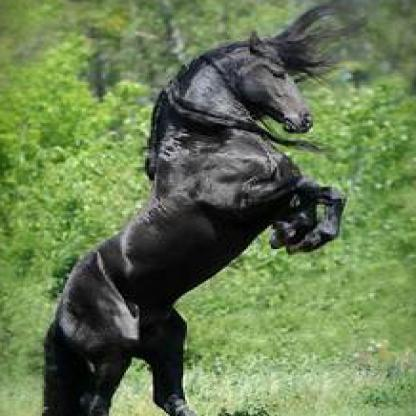horse: (27, 5, 351, 414)
